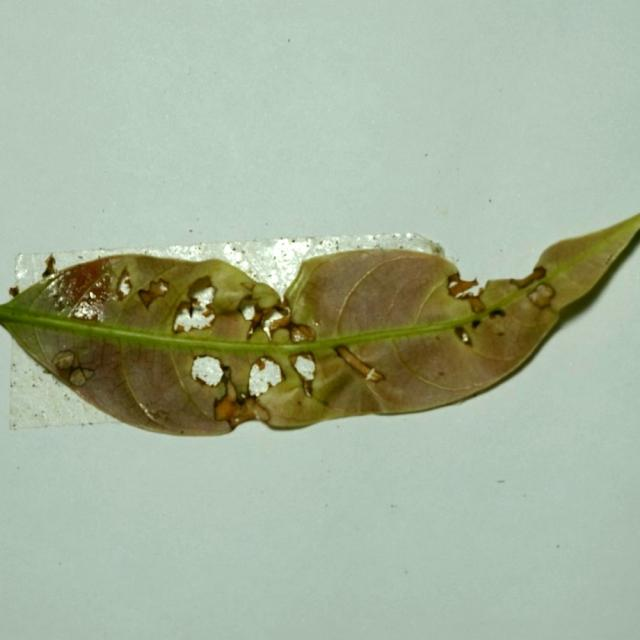Anthracnose: (175, 277, 307, 347), (190, 350, 297, 404), (211, 374, 270, 429), (164, 289, 216, 340), (172, 292, 217, 334), (336, 347, 384, 383), (52, 349, 96, 387), (247, 356, 284, 396), (190, 354, 227, 387), (270, 317, 314, 344), (137, 277, 171, 310), (260, 306, 292, 338), (446, 272, 480, 298), (526, 283, 555, 308), (191, 285, 215, 310), (293, 354, 315, 378), (117, 274, 133, 299), (174, 315, 193, 333), (42, 257, 56, 279), (240, 303, 256, 321), (459, 329, 471, 344)
Mango: (0, 212, 639, 426)
